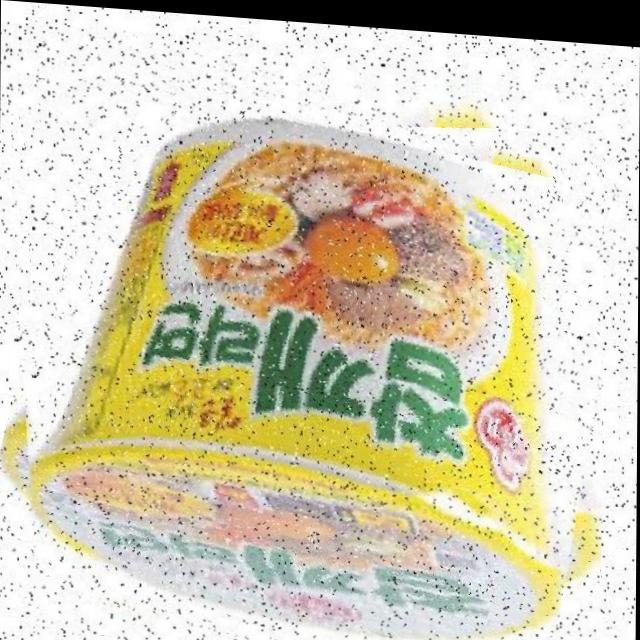Miscellaneous: (4, 42, 603, 640)
